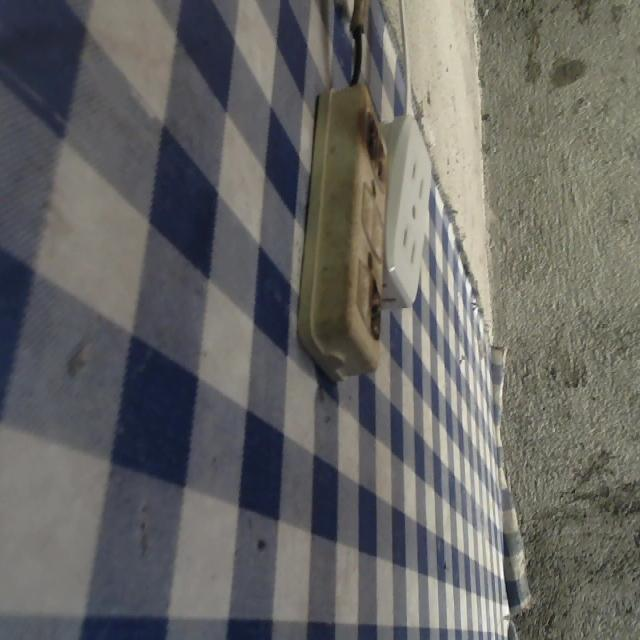-: (364, 111, 390, 188), (365, 278, 386, 342)
